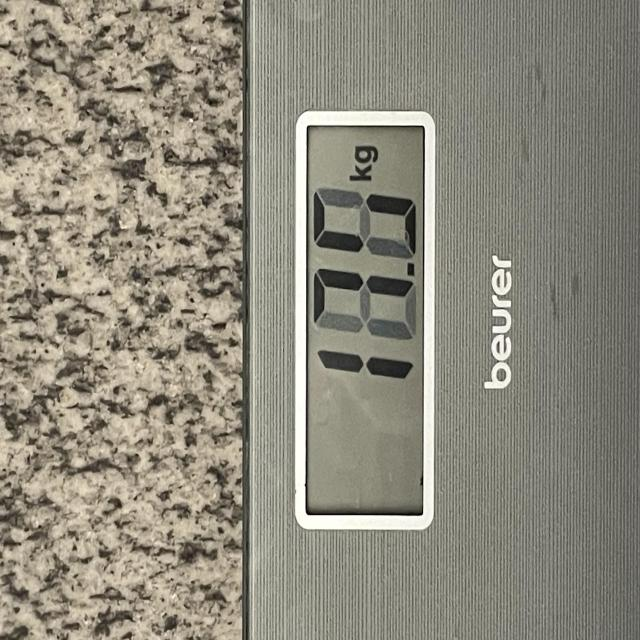ws: (243, 110, 443, 640)
